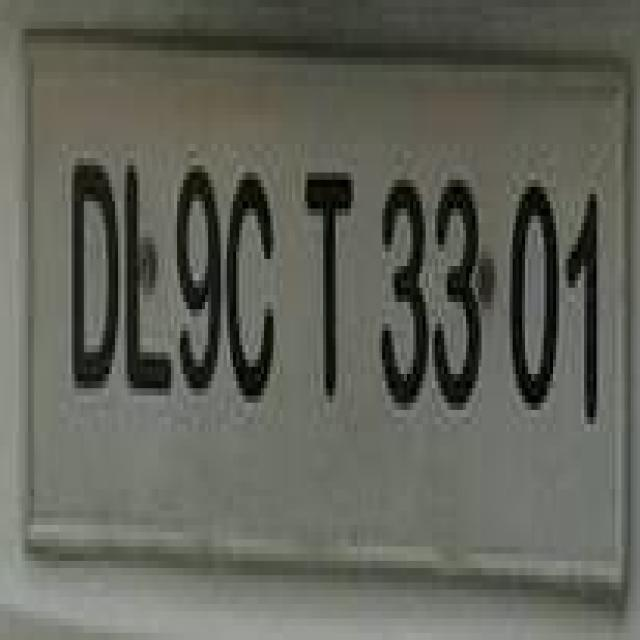plate: (18, 35, 640, 575)
